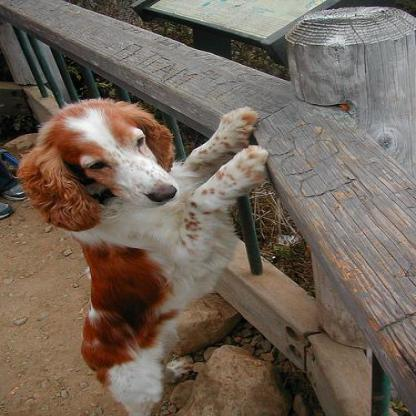Welsh_springer_spaniel: (12, 96, 271, 414)
